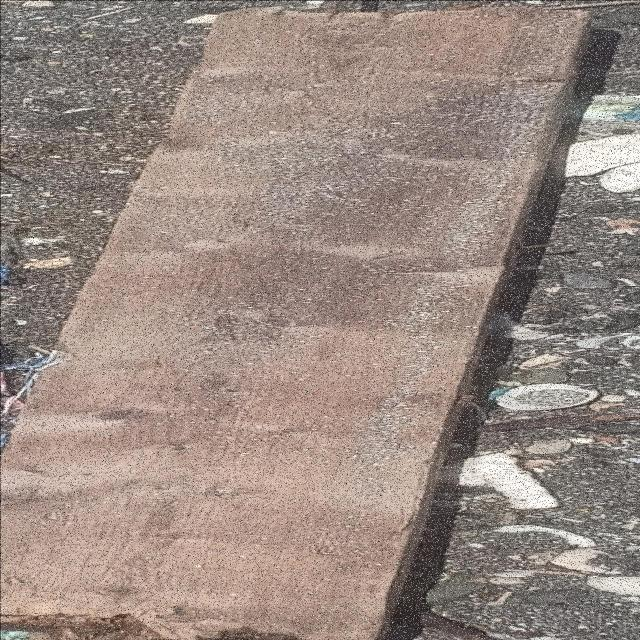wood_waste: (1, 4, 604, 640)
